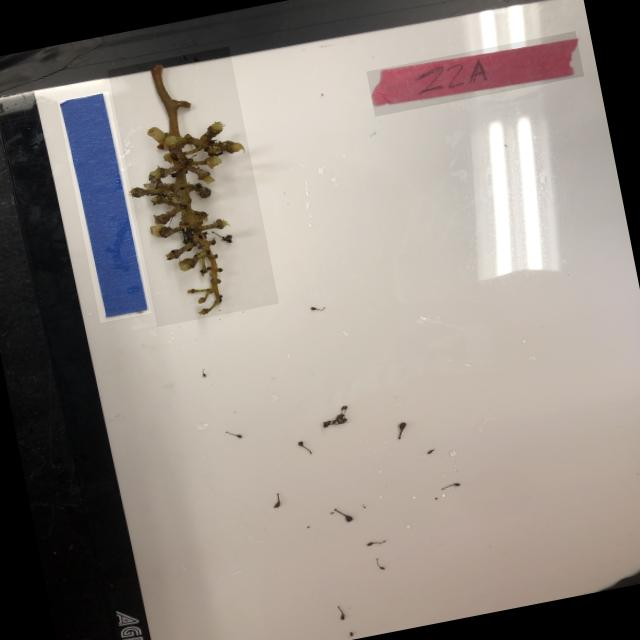index: (366, 31, 584, 117)
measure_label: (57, 92, 152, 324)
rachis_cluster: (108, 46, 280, 328)
